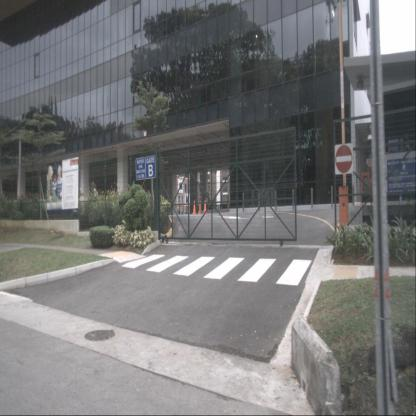movable_object-trafficcone: (190, 199, 198, 215), (203, 199, 208, 215), (198, 200, 202, 214)
